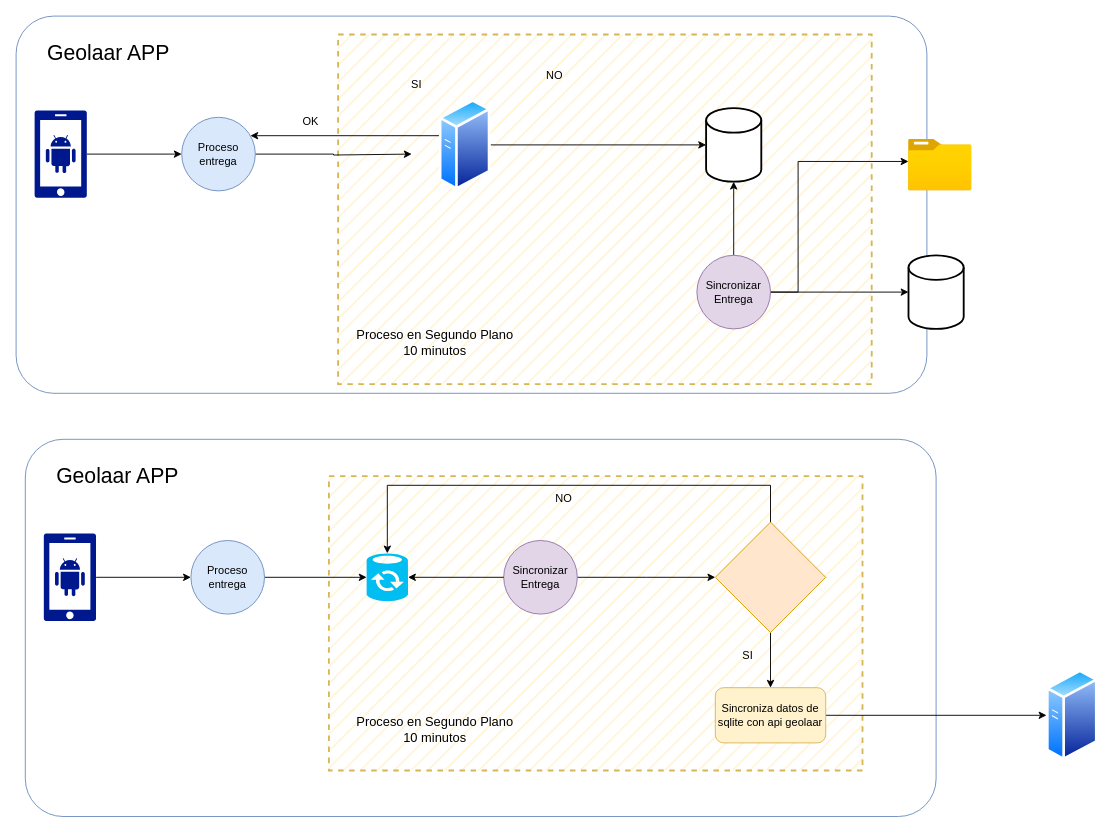
Image size: 1114x833. Some labels were removed from this diagram. The centre of each missing label's shape, as x and y in pixels:
Operacions: [935,291]
Sqlite: [387,577]
Verificar si esta activo el servicio: [770,576]
